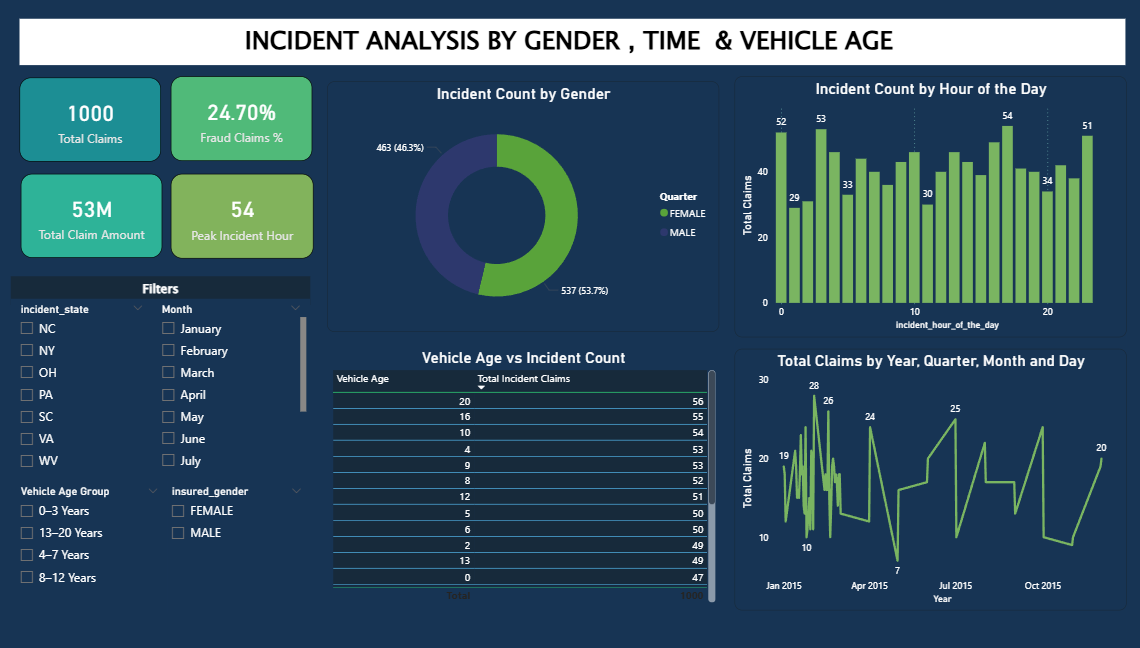

The dashboard page shown, as its layout file describes it:
{"tool":"powerbi","page":{"name":"Incident Analysis by Time, Gender & Vehicle Age","canvas":[1500,850],"ordinal":1},"visuals":[{"type":"card","fields":{"Values":["insurance.Total Claims"]},"box":[29,101.4,185.5,110.1],"z":0},{"type":"card","fields":{"Values":["insurance.Total Claim Amount"]},"box":[30.4,227.5,185.5,110.1],"z":1000},{"type":"card","fields":{"Values":["insurance.Peak Incident Hour"]},"box":[227.5,227.5,187,111.6],"z":2000},{"type":"card","fields":{"Values":["insurance.Fraud Claims %"]},"box":[227.5,100,185.5,111.6],"z":3000},{"type":"columnChart","title":"Incident Count by Hour of the Day","fields":{"Y":["insurance.Total Claims"],"Category":["insurance.incident_hour_of_the_day"]},"box":[966.7,100,514.5,342],"z":4000},{"type":"lineChart","fields":{"Y":["insurance.Total Claims"],"Category":["insurance.incident_date_clean.Variation.Date Hierarchy.Year","insurance.incident_date_clean.Variation.Date Hierarchy.Quarter","insurance.incident_date_clean.Variation.Date Hierarchy.Month","insurance.incident_date_clean.Variation.Date Hierarchy.Day"]},"box":[966.7,458,514.5,343.5],"z":5000},{"type":"donutChart","title":"Incident Count by Gender","fields":{"Y":["insurance.Total Claims"],"Category":["insurance.insured_sex"]},"box":[433.3,105.8,514.5,329],"z":6000},{"type":"tableEx","title":"Vehicle Age vs Incident Count","fields":{"Values":["insurance.Vehicle Age","insurance.Total Claims"]},"box":[435.2,457.7,512.7,338],"z":7000},{"type":"textbox","box":[18.6,362.9,392.9,37.1],"z":8000},{"type":"slicer","fields":{"Values":["insurance.incident_date_clean.Variation.Date Hierarchy.Month"]},"box":[202.9,391.4,207.1,237.1],"z":9000},{"type":"slicer","fields":{"Values":["insurance.incident_state"]},"box":[18.6,391.4,185.7,237.1],"z":10000},{"type":"slicer","fields":{"Values":["insurance.insured_sex"]},"box":[215.9,630.4,195.7,172.5],"z":11000},{"type":"slicer","fields":{"Values":["insurance.Vehicle Age Group"]},"box":[17.4,630.4,205.8,172.5],"z":12000},{"type":"textbox","box":[29.6,23.9,1450.7,60.6],"z":13000}]}

Visuals, with their boxes in screenshot pixels (x1, y1, x2, y2), scaled from the page's 1500x850 canvas onto the 1140x648 screenshot:
card - insurance.Total Claims: <box>22,77,163,161</box>
card - insurance.Total Claim Amount: <box>23,173,164,257</box>
card - insurance.Peak Incident Hour: <box>173,173,315,259</box>
card - insurance.Fraud Claims %: <box>173,76,314,161</box>
"Incident Count by Hour of the Day" columnChart: <box>735,76,1126,337</box>
lineChart - insurance.Total Claims x insurance.incident_date_clean.Variation.Date Hierarchy.Year: <box>735,349,1126,611</box>
"Incident Count by Gender" donutChart: <box>329,81,720,331</box>
"Vehicle Age vs Incident Count" tableEx: <box>331,349,720,607</box>
textbox: <box>14,277,313,305</box>
slicer - insurance.incident_date_clean.Variation.Date Hierarchy.Month: <box>154,298,312,479</box>
slicer - insurance.incident_state: <box>14,298,155,479</box>
slicer - insurance.insured_sex: <box>164,481,313,612</box>
slicer - insurance.Vehicle Age Group: <box>13,481,170,612</box>
textbox: <box>22,18,1125,64</box>
